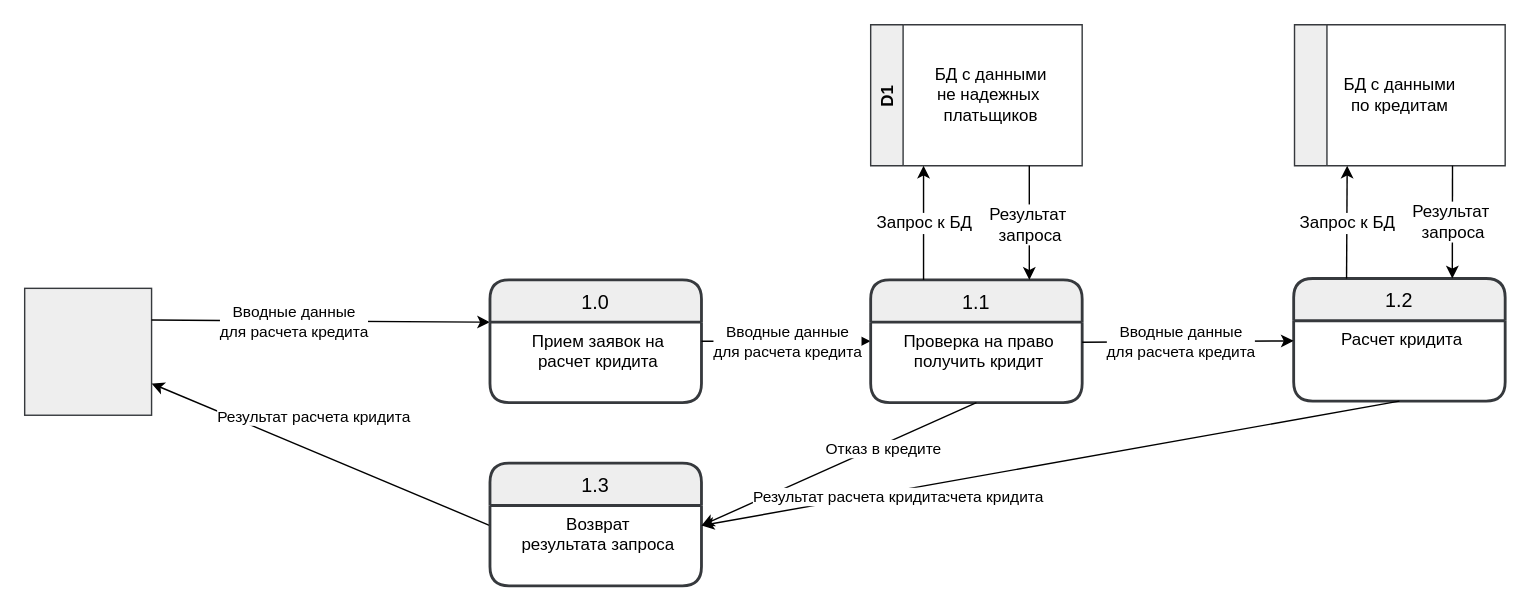
This 1531x612 diagram has some shape labels left out. The shapes that lost their labels are listed below. From the top down, each one's box as (x1, y1, x2, y2) in pixels, then its label:
(1293, 23, 1505, 166): D2
(23, 287, 152, 415): Клиент
